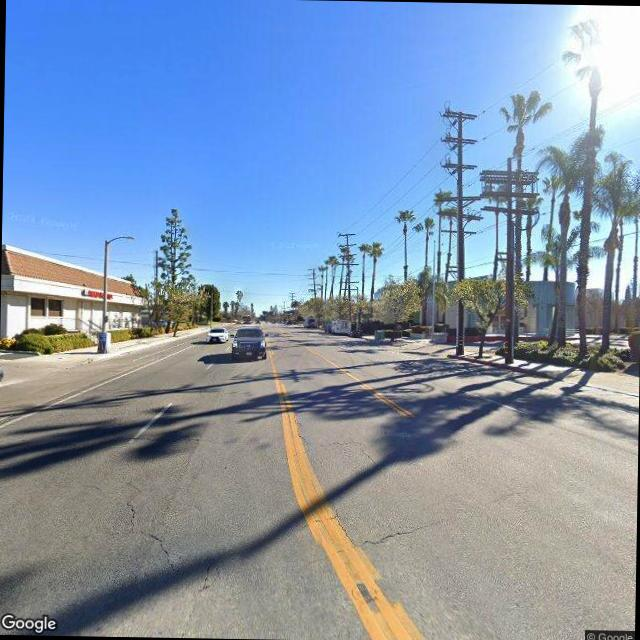crack: (118, 478, 180, 582), (284, 402, 376, 463), (96, 418, 217, 443), (357, 514, 442, 547)
